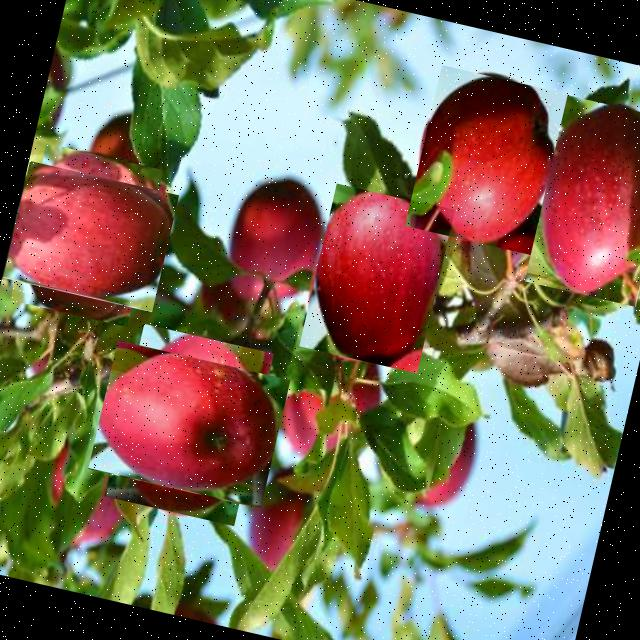Fresh Apple: (95, 330, 282, 518), (403, 64, 568, 255), (298, 182, 454, 373), (1, 149, 171, 319), (523, 93, 639, 307)
